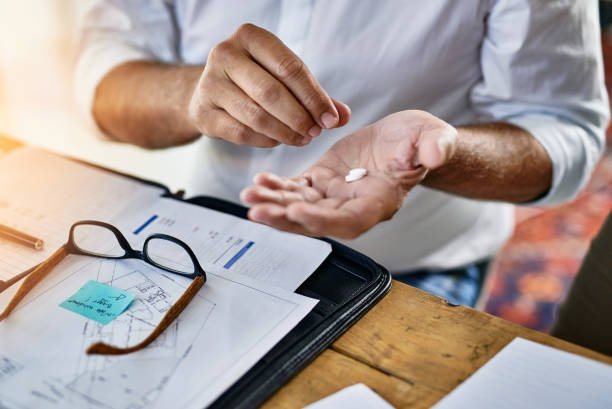pills: (344, 164, 370, 187)
